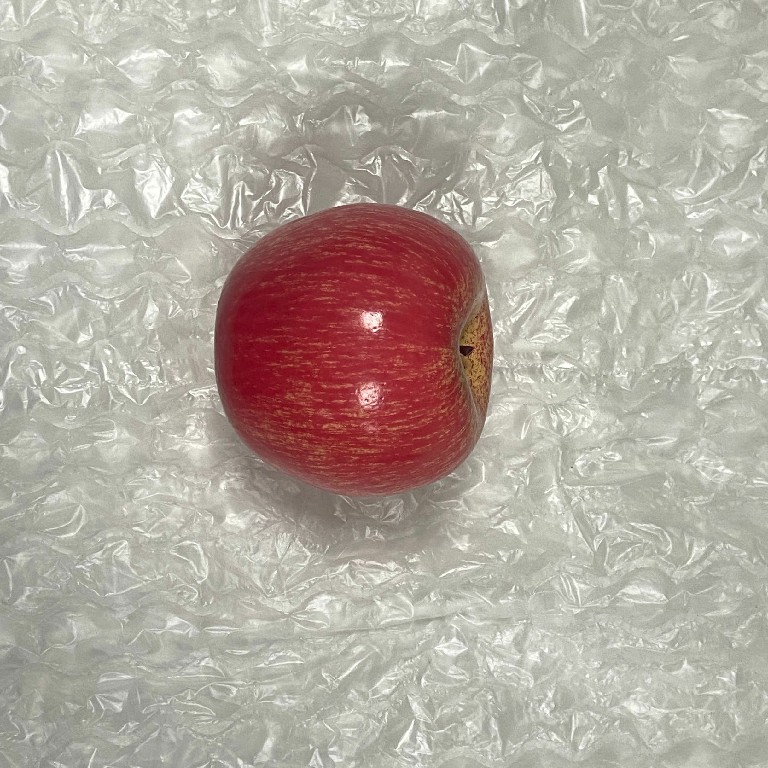fruit_apple: (209, 200, 498, 497)
